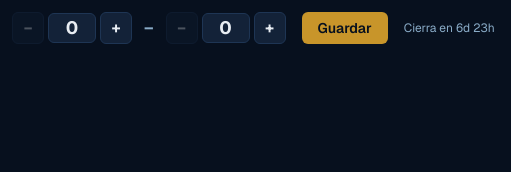
Test: PredictionForm — envío exitoso › muestra el error del servidor si la request falla
This screenshot has width=511, height=172.
What coordinates should you click on to do the following:
click the button named "Sumar"
I would click on:
 (116, 28)
Its box is [100,12,132,44].
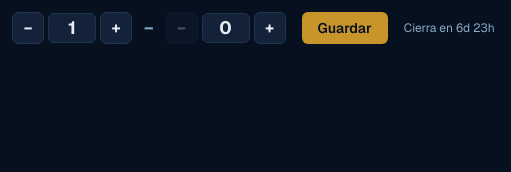
What coordinates should you click on to do the following:
click the button "Guardar"
I would click on:
 (345, 28)
Its box is [302,12,388,44].
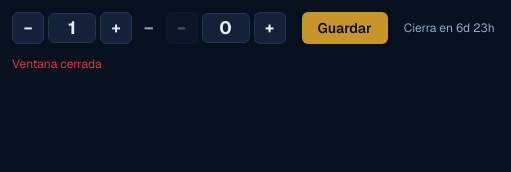
Check: the text "Ventana cerrada" is shown, box [12,56,102,72]
